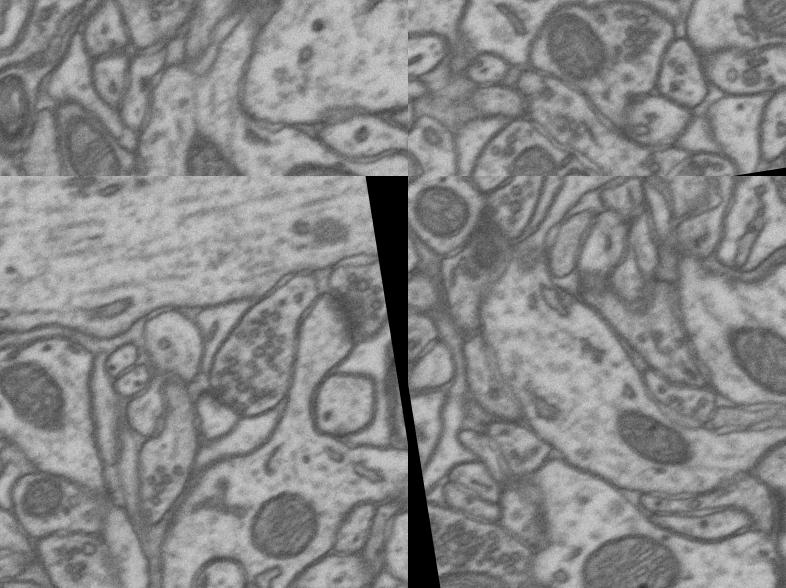mitochondria: (226, 476, 336, 575), (0, 341, 89, 448), (603, 394, 702, 484), (169, 108, 298, 176), (565, 520, 691, 588), (540, 6, 626, 104), (716, 306, 786, 419), (49, 96, 125, 176), (408, 176, 479, 254), (8, 456, 75, 536), (264, 138, 385, 176), (436, 554, 527, 588), (496, 135, 569, 176), (730, 0, 786, 53), (0, 69, 39, 143)
